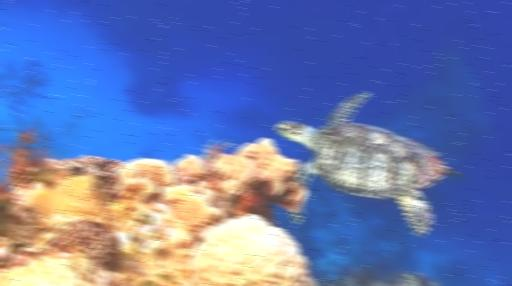Fish: (274, 91, 458, 236)
